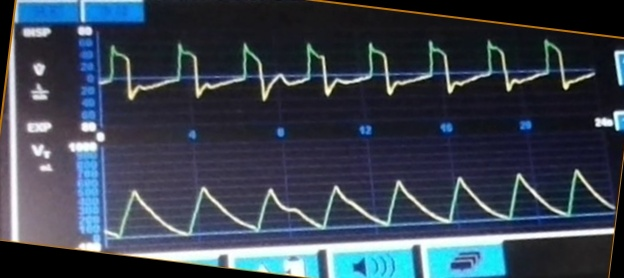Premature_cycling Flow: (101, 37, 594, 114)
Premature_cycling Volume: (110, 166, 612, 240)
